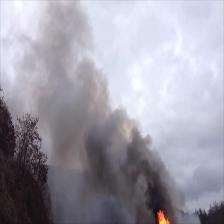fire: (157, 210, 171, 224)
smoke: (97, 149, 166, 197), (45, 89, 103, 133)
